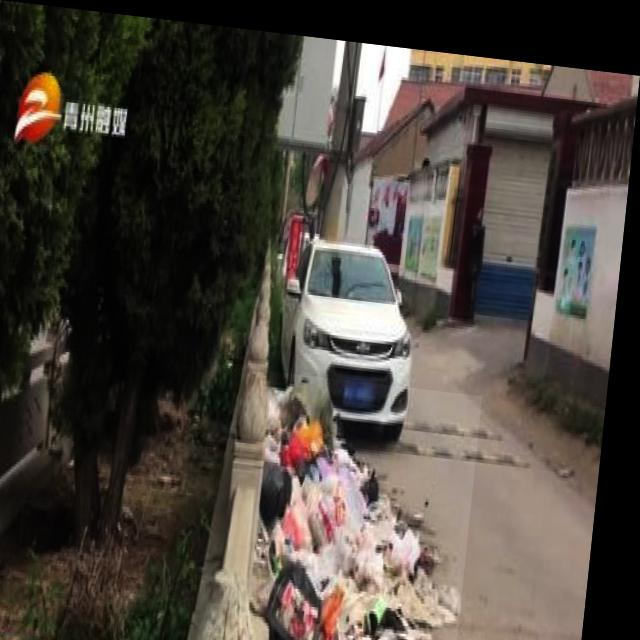garbage: (253, 363, 490, 640)
